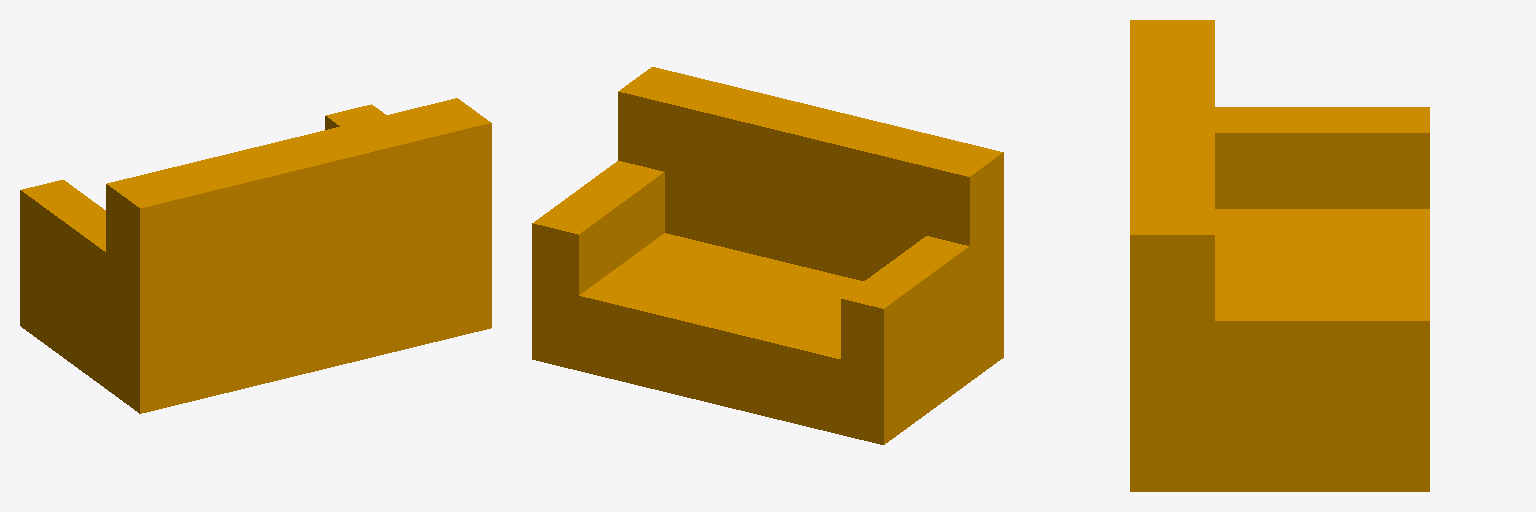
robot.urdf — 7c9e1876b1643e93f9377e1922a21892:
<?xml version="1.0" ?>
<robot name="7c9e1876b1643e93f9377e1922a21892">

  <link name="base">

    <inertial>
      <mass value="1"/>
      <inertia ixx="1" ixy="0" ixz="0" iyy="1" iyz="0" izz="1"/>
    </inertial>

    <visual>
      <origin rpy="1.57079 0 0" xyz="0 0 0.24"/>
      <geometry>
        <mesh filename ="models/model_normalized.obj" scale="1 1 1"/>
      </geometry>
    </visual>

    <collision>
      <origin rpy="1.57079 0 0" xyz="0 0 0.24"/>
      <geometry>
        <mesh filename ="models/model_normalized.obj" scale="1 1 1"/>
      </geometry>
    </collision>

  </link>
  
</robot>

--- Render facts (derived) ---
Views: 3 orthographic renders of the robot side by side, from view 1: azimuth 30°, elevation 25°; view 2: azimuth 150°, elevation 25°; view 3: azimuth 270°, elevation 25°.
Robot: 7c9e1876b1643e93f9377e1922a21892 — 1 links, 0 joints (none); root link base; default pose: every joint at zero.
Visible links, largest first — view 1: base; view 2: base; view 3: base.
Boxes of the visible links, box(x1,y1,x2,y2) form: base: box(20, 98, 491, 413); base: box(532, 67, 1003, 444); base: box(1130, 20, 1429, 491).
Size in the robot's own frame: 0.7759 by 0.4582 by 0.4337 metres.
1 mesh visuals loaded from 1 distinct referenced files (1 OBJ).